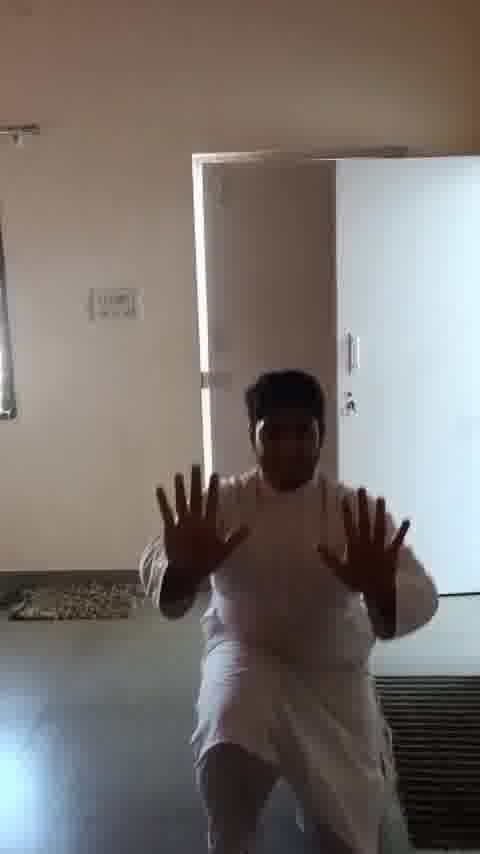duck: (130, 357, 457, 854)
